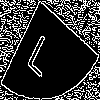L: (25, 25, 60, 78)
